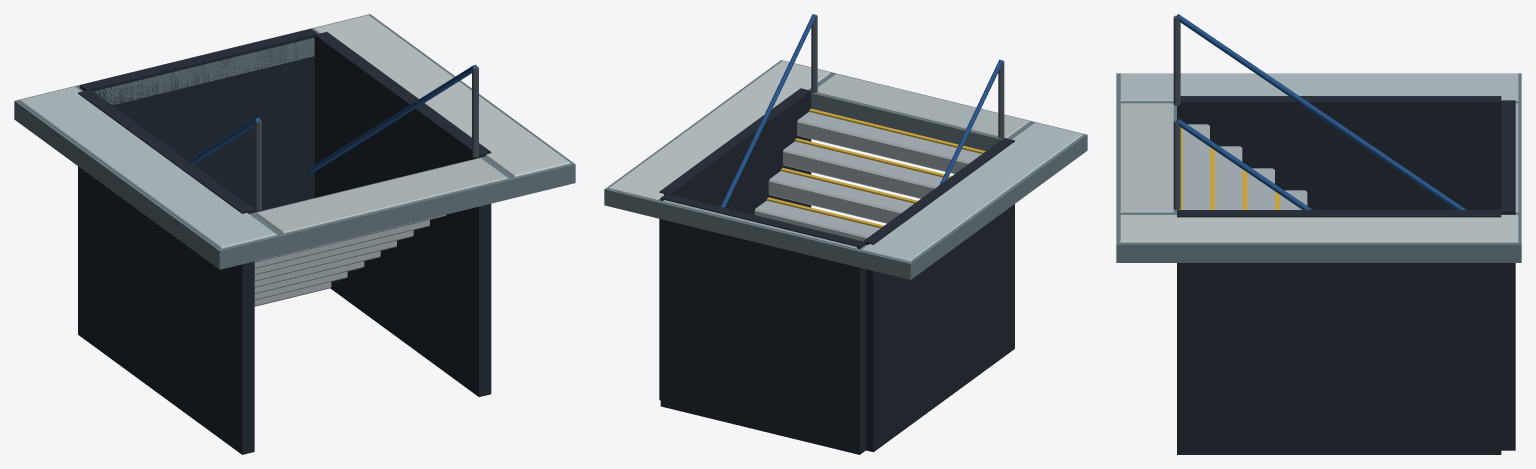
The model's file is stairs_down.fbx.
3 renders of one model, left to right at view 1: azimuth 30°, elevation 25°; view 2: azimuth 150°, elevation 25°; view 3: azimuth 270°, elevation 25°, orthographic. The views are drawn at different scales.
Parts seen in each view (by area): view 1: stairs_down; view 2: stairs_down; view 3: stairs_down.
Boxes of the visible parts, x1,y1,x2,y2 form: stairs_down: (14,14,575,454); stairs_down: (604,14,1087,454); stairs_down: (1116,14,1521,454).
Bounding box in the file's own units: 4 × 3.57 × 4.
